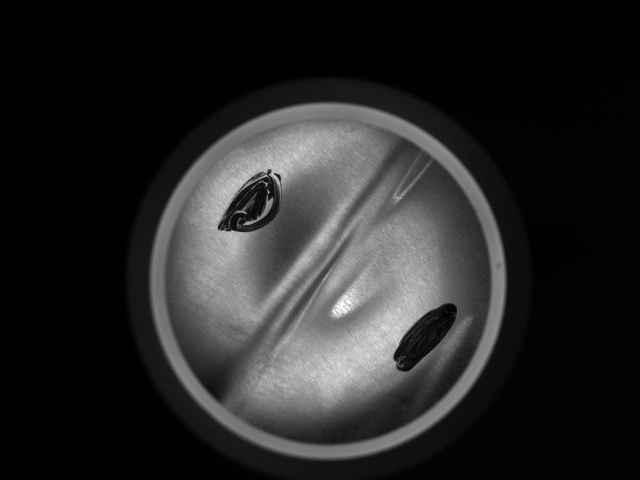zhe_zhou: (204, 153, 452, 408), (390, 301, 457, 373), (215, 168, 285, 232)
